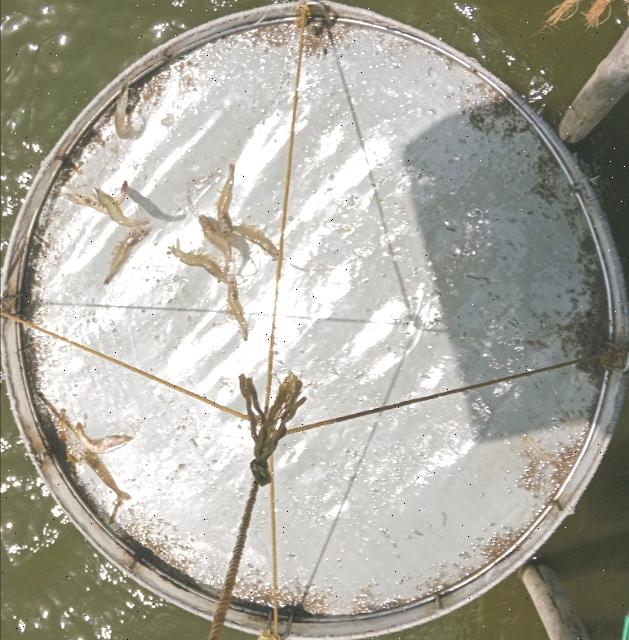shrimp: (77, 447, 131, 505), (104, 220, 150, 284), (169, 238, 228, 283), (92, 187, 150, 227), (232, 224, 284, 262), (198, 214, 231, 273), (75, 420, 133, 453), (114, 83, 144, 139), (214, 162, 235, 242), (227, 276, 247, 340)
